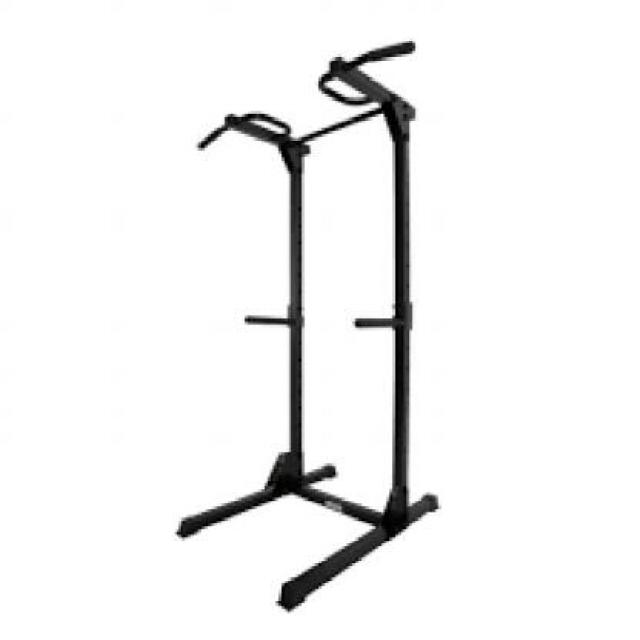chinning dipping: (175, 39, 440, 616)
